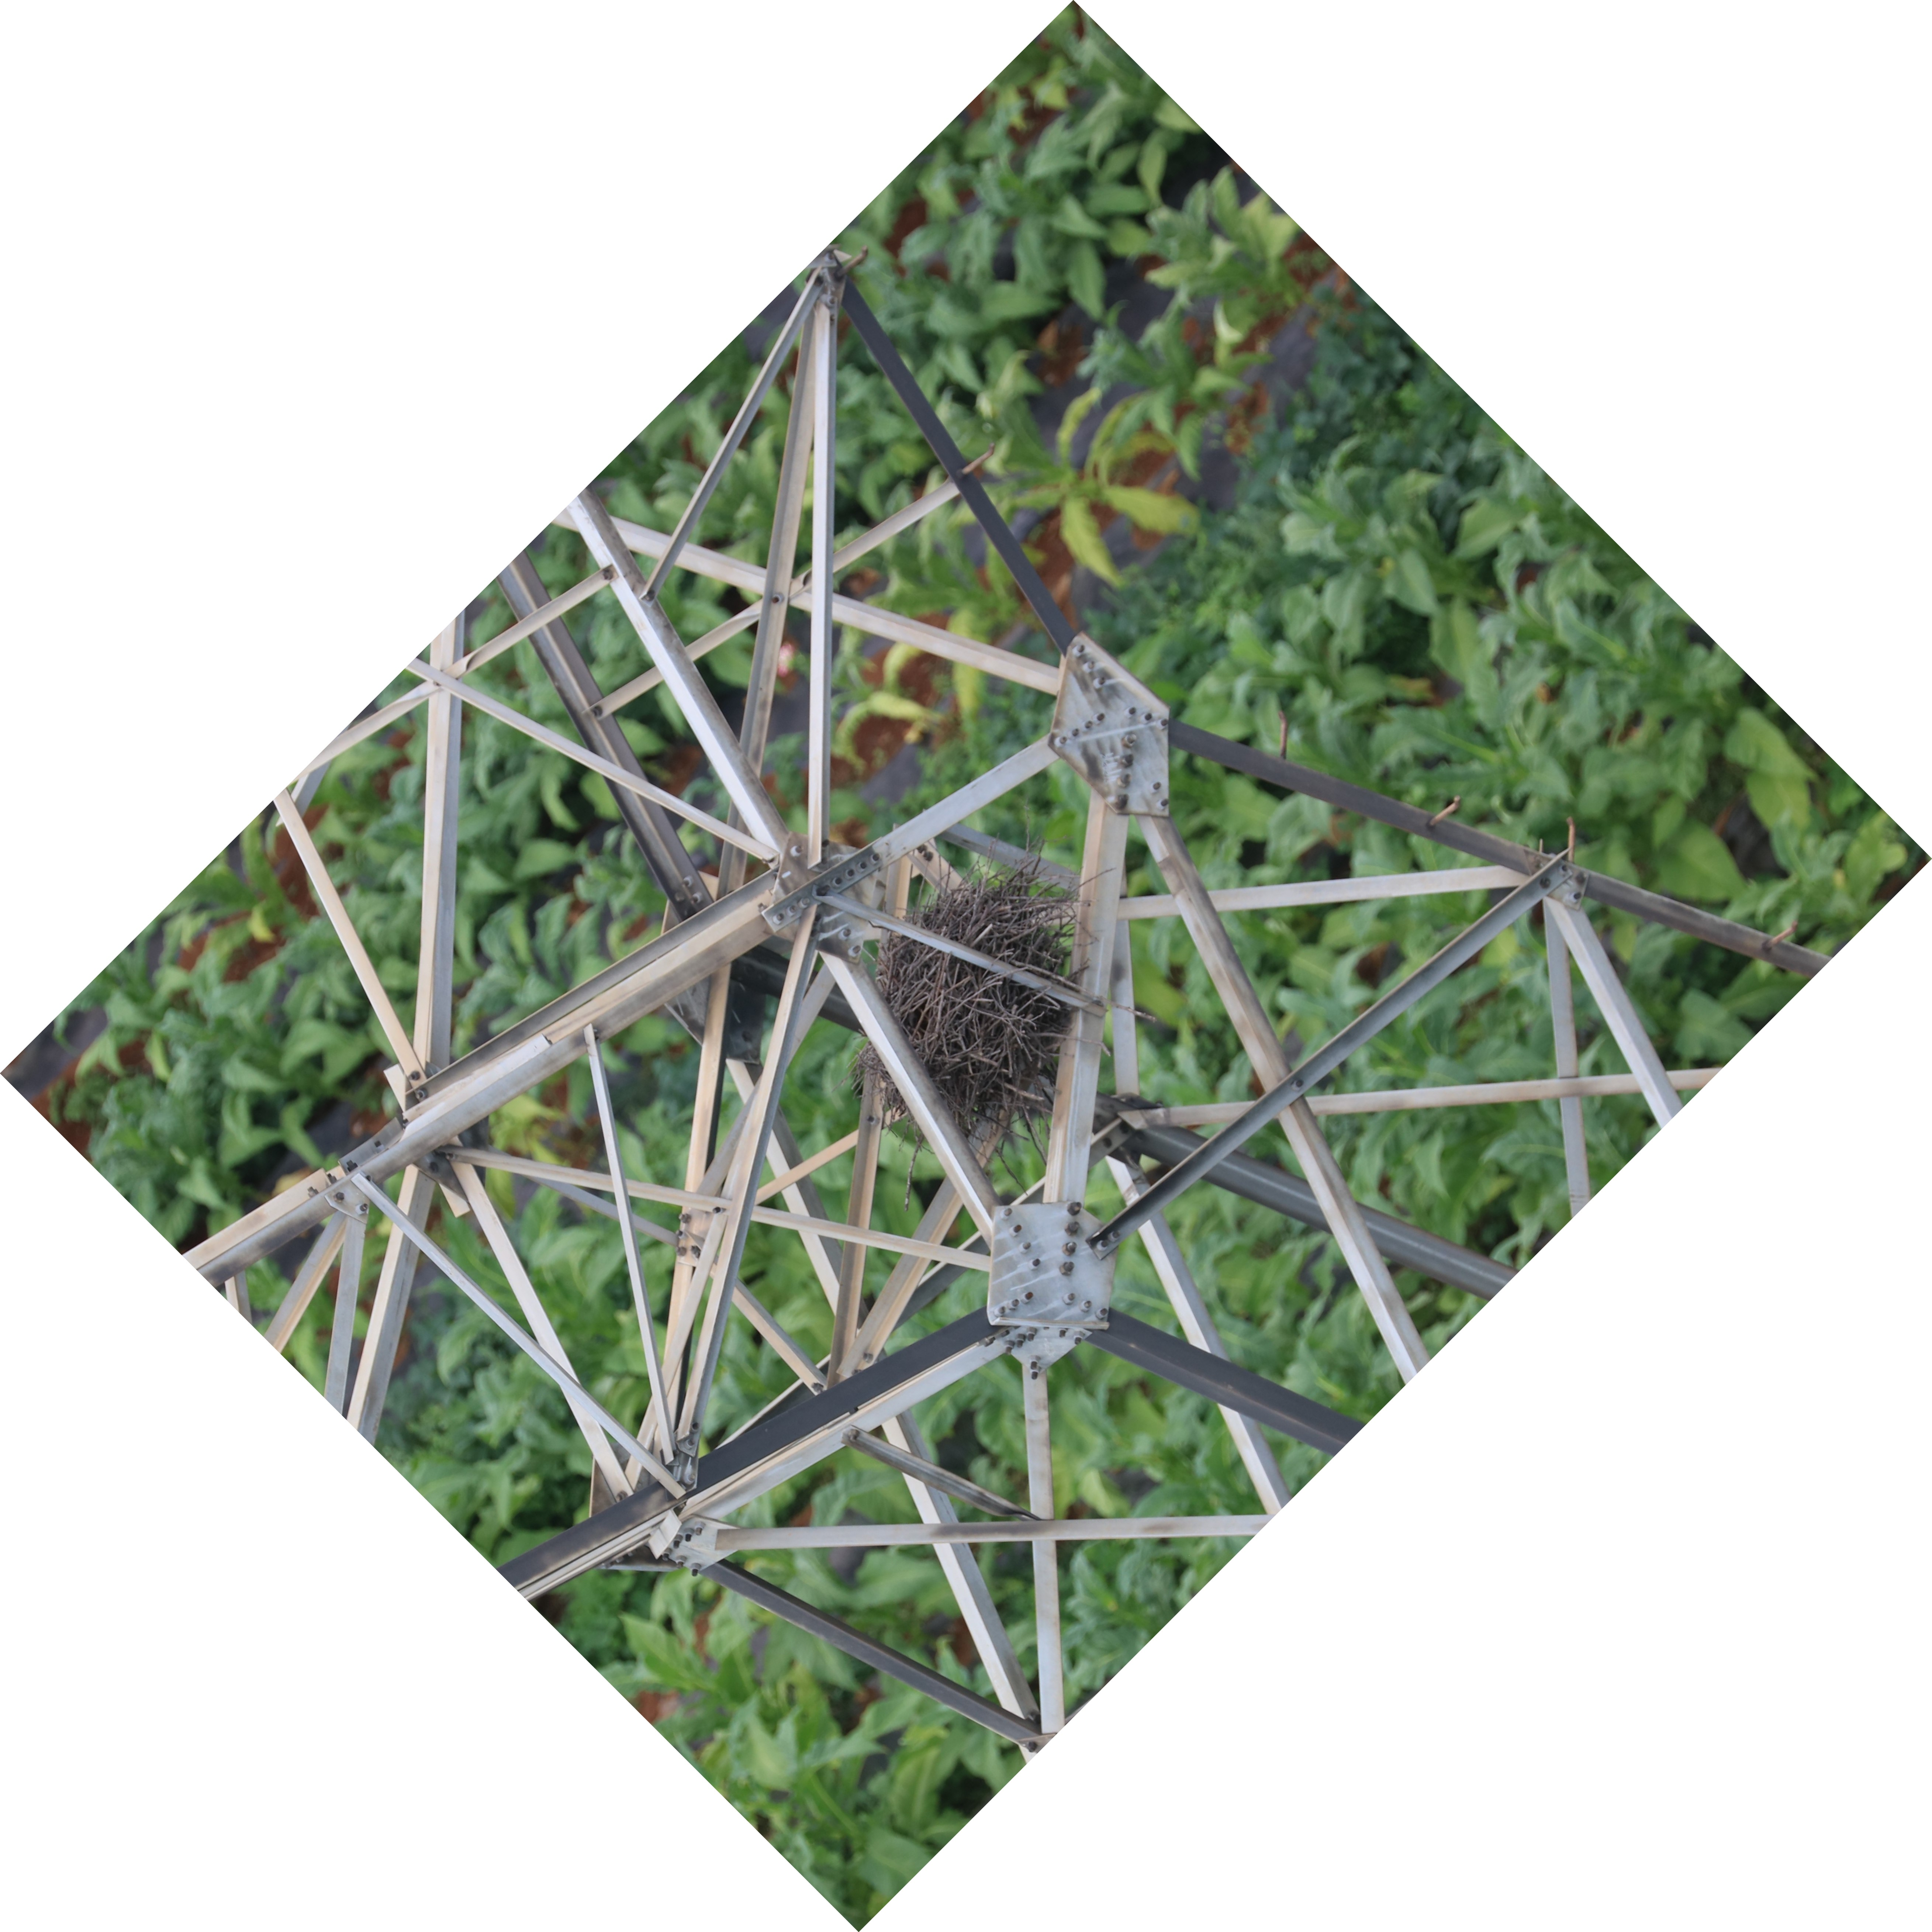niaowo: (835, 856, 1125, 1131)
